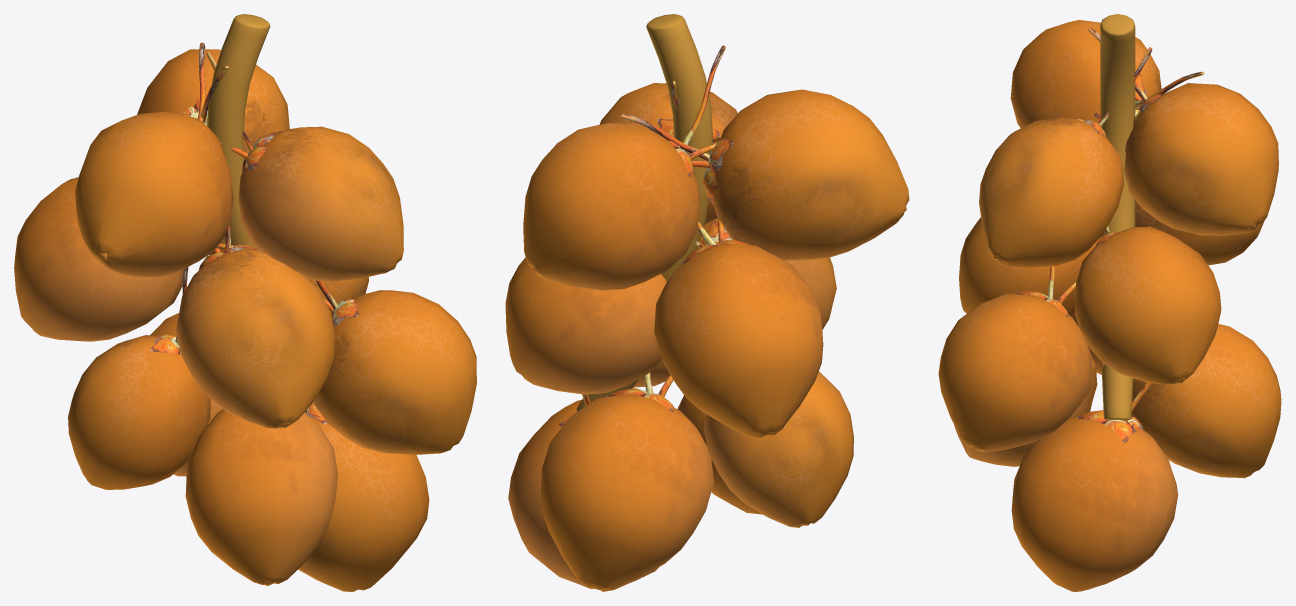
File: coconut_set.glb
3 views of the same model, side by side, from view 1: azimuth 30°, elevation 25°; view 2: azimuth 150°, elevation 25°; view 3: azimuth 270°, elevation 25° (orthographic). The views are drawn at different scales.
Parts seen in each view (by area): view 1: kc_LP4, kc_LP7, kc_LP10, kc_LP9, kc_LP12, kc_LP5, kc_LP3, kc_LP6, kc_LP8, stick, kc_LP2, kc_LP11; view 2: kc_LP7, kc_LP11, kc_LP3, kc_LP8, kc_LP2, kc_LP5, stick, kc_LP6, kc_LP9, kc_LP4, kc_LP12; view 3: kc_LP6, kc_LP8, kc_LP10, kc_LP2, kc_LP9, kc_LP11, kc_LP7, stick, kc_LP4, kc_LP3, kc_LP12.
Boxes of the visible parts, bbox=[...] form: kc_LP4: bbox=[175, 225, 334, 428]; kc_LP7: bbox=[75, 42, 233, 277]; kc_LP10: bbox=[313, 280, 476, 454]; kc_LP9: bbox=[206, 52, 403, 281]; kc_LP12: bbox=[185, 409, 337, 585]; kc_LP5: bbox=[68, 267, 210, 489]; kc_LP3: bbox=[14, 177, 183, 341]; kc_LP6: bbox=[298, 402, 429, 591]; kc_LP8: bbox=[137, 49, 289, 153]; stick: bbox=[207, 14, 270, 248]; kc_LP2: bbox=[209, 241, 368, 312]; kc_LP11: bbox=[150, 313, 222, 476]; kc_LP7: bbox=[620, 89, 909, 261]; kc_LP11: bbox=[540, 372, 713, 591]; kc_LP3: bbox=[654, 218, 823, 437]; kc_LP8: bbox=[523, 45, 725, 290]; kc_LP2: bbox=[505, 238, 732, 394]; kc_LP5: bbox=[703, 371, 853, 527]; stick: bbox=[576, 14, 713, 411]; kc_LP6: bbox=[508, 394, 658, 588]; kc_LP9: bbox=[599, 81, 737, 224]; kc_LP4: bbox=[695, 218, 836, 329]; kc_LP12: bbox=[677, 395, 762, 514]; kc_LP6: bbox=[1011, 360, 1178, 591]; kc_LP8: bbox=[1087, 27, 1278, 235]; kc_LP10: bbox=[938, 266, 1091, 452]; kc_LP2: bbox=[1075, 226, 1221, 385]; kc_LP9: bbox=[979, 47, 1152, 267]; kc_LP11: bbox=[1131, 324, 1281, 478]; kc_LP7: bbox=[1010, 20, 1204, 127]; stick: bbox=[1100, 14, 1135, 420]; kc_LP4: bbox=[959, 143, 1126, 317]; kc_LP3: bbox=[1135, 200, 1264, 265]; kc_LP12: bbox=[954, 357, 1097, 466].
Bounding box in the file's own units: 91.04 × 142 × 82.96.
Materials: 1 (1 with a texture image).
